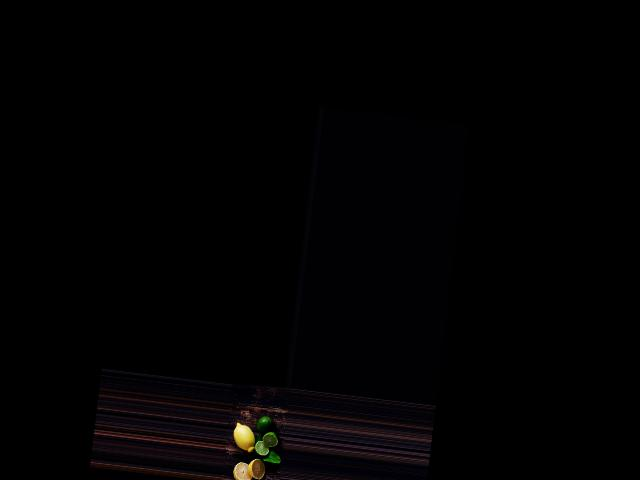lemon: (230, 420, 259, 454)
